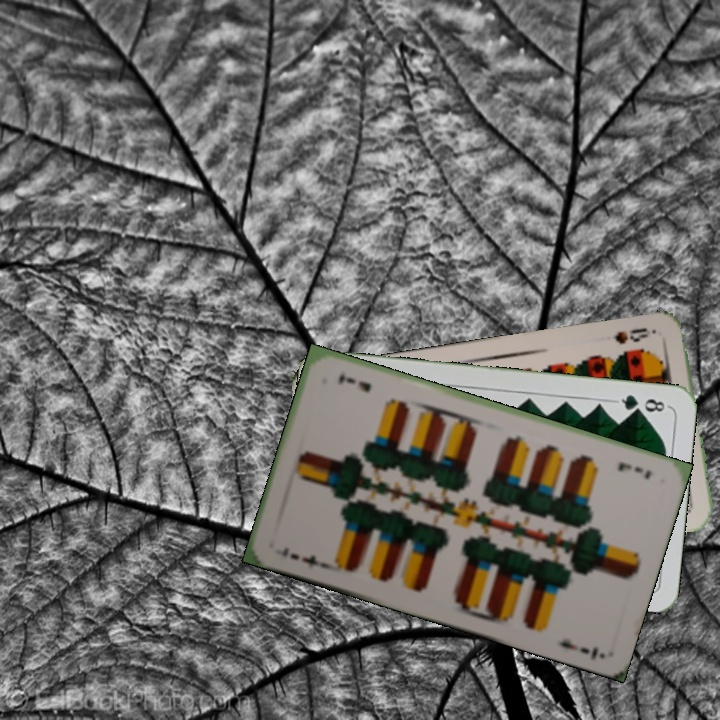E7: (278, 542, 329, 571), (614, 458, 654, 482)
G8: (612, 390, 671, 416)
S8: (611, 323, 659, 347)
